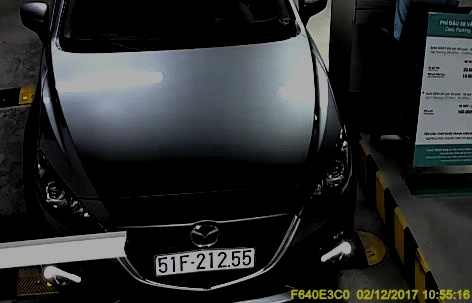plate: (152, 248, 253, 272)
